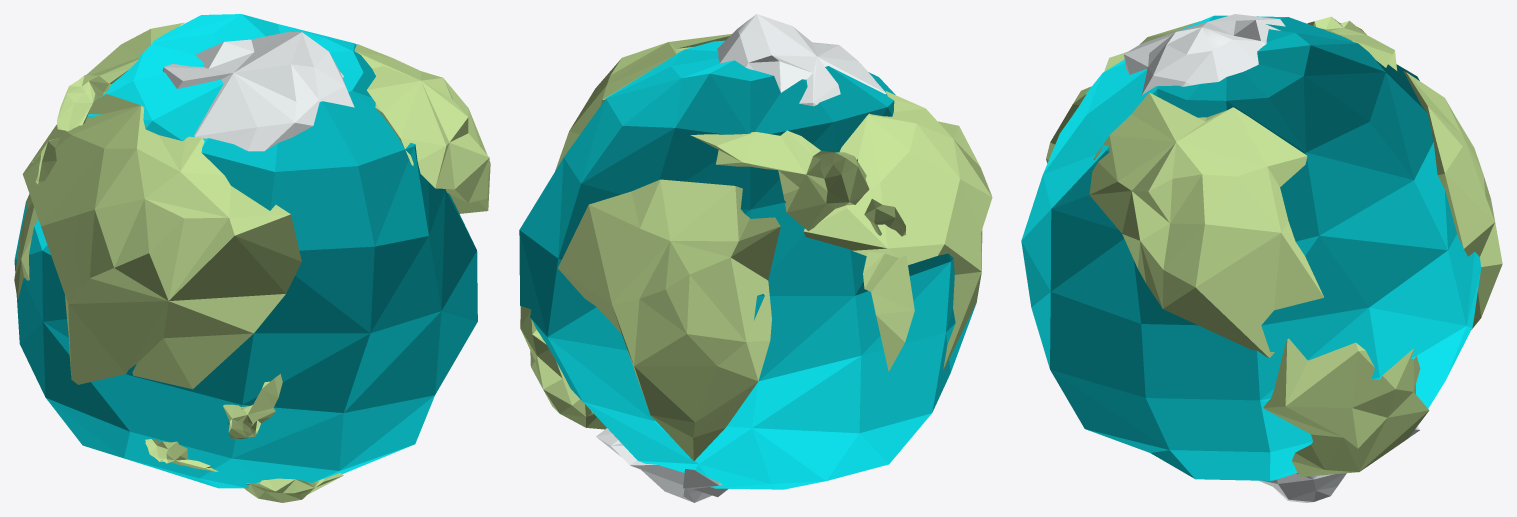
Rendered from earth.gltf.
The picture shows the model from 3 angles, left to right: view 1: azimuth 30°, elevation 25°; view 2: azimuth 150°, elevation 25°; view 3: azimuth 270°, elevation 25°; orthographic projection. The views are drawn at different scales.
Visible parts, largest first — view 1: model.155, model.161, model.057, model.160, model.159, model.163, model.162, model.158, model.164; view 2: model.155, model.156, model.161, model.159, model.057, model.162, model.160, model.157, model.059; view 3: model.155, model.160, model.157, model.156, model.057, model.059, model.159, model.161.
Part boxes in pixels (<box>): model.155: <box>14,14,477,488</box>; model.161: <box>22,94,301,389</box>; model.057: <box>162,31,354,151</box>; model.160: <box>354,44,490,213</box>; model.159: <box>57,22,184,131</box>; model.163: <box>223,374,282,439</box>; model.162: <box>14,137,60,299</box>; model.158: <box>243,473,343,502</box>; model.164: <box>145,439,218,471</box>; model.155: <box>519,40,976,489</box>; model.156: <box>558,179,780,460</box>; model.161: <box>803,91,992,369</box>; model.159: <box>690,130,869,230</box>; model.057: <box>717,14,886,106</box>; model.162: <box>863,199,914,371</box>; model.160: <box>555,34,731,170</box>; model.157: <box>520,306,606,429</box>; model.059: <box>596,428,728,502</box>; model.155: <box>1021,15,1481,480</box>; model.160: <box>1089,92,1323,358</box>; model.157: <box>1263,338,1429,476</box>; model.156: <box>1403,71,1502,329</box>; model.057: <box>1124,14,1285,94</box>; model.059: <box>1259,426,1419,502</box>; model.159: <box>1307,16,1397,70</box>; model.161: <box>1046,21,1199,163</box>.
Size of the model in its own units: 3.17 by 3.42 by 3.18.
